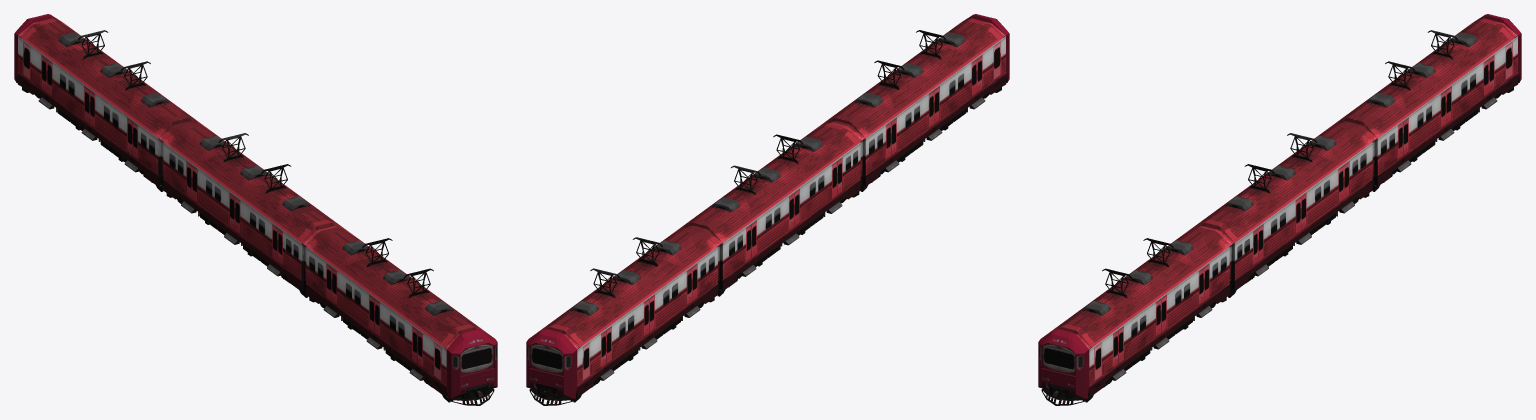
File: ElectricTrain.obj
3 views of the same model, side by side, from view 1: azimuth 30°, elevation 25°; view 2: azimuth 150°, elevation 25°; view 3: azimuth 330°, elevation 25° (orthographic).
Parts seen in each view (by area): view 1: ElectricTrain; view 2: ElectricTrain; view 3: ElectricTrain.
Boxes of the visible parts, box(x1,y1,x2,y2) form: ElectricTrain: box(14, 14, 497, 405); ElectricTrain: box(526, 14, 1009, 405); ElectricTrain: box(1038, 14, 1521, 405).
Size of the model in its own units: 478 by 775 by 7056.
